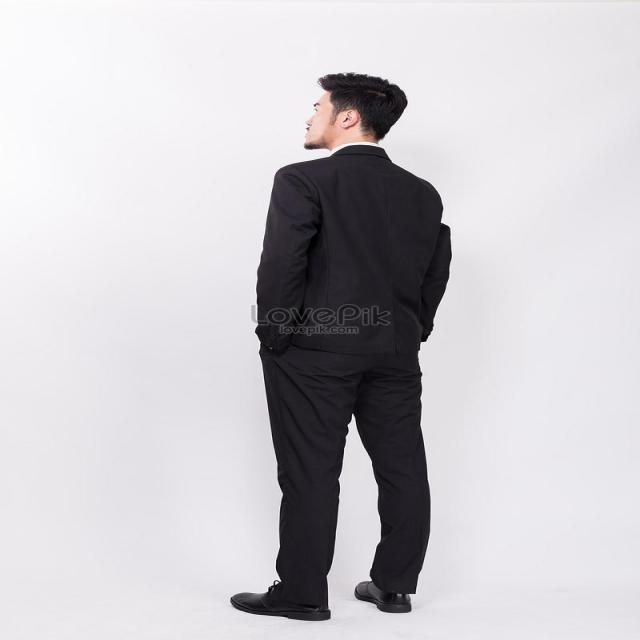person: (154, 40, 544, 639)
